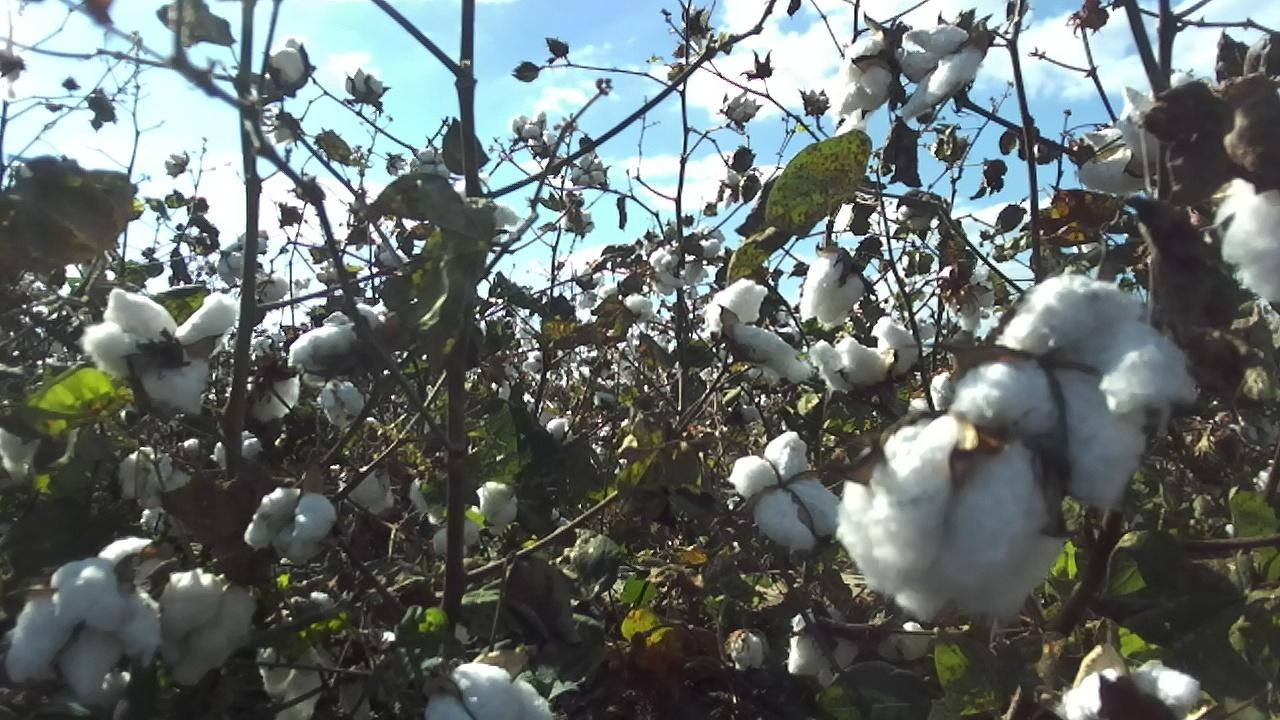cotton_ready: (953, 272, 1195, 514), (834, 410, 1072, 625), (4, 559, 164, 708), (83, 285, 239, 418), (729, 430, 838, 553), (160, 569, 259, 692), (705, 277, 806, 381), (1076, 80, 1165, 193), (897, 22, 984, 122), (812, 320, 925, 395), (421, 660, 560, 720), (1217, 175, 1280, 303), (1064, 664, 1205, 720), (245, 487, 339, 566), (291, 304, 384, 377), (798, 250, 870, 329), (833, 32, 892, 119), (789, 629, 858, 683), (245, 362, 300, 423)
